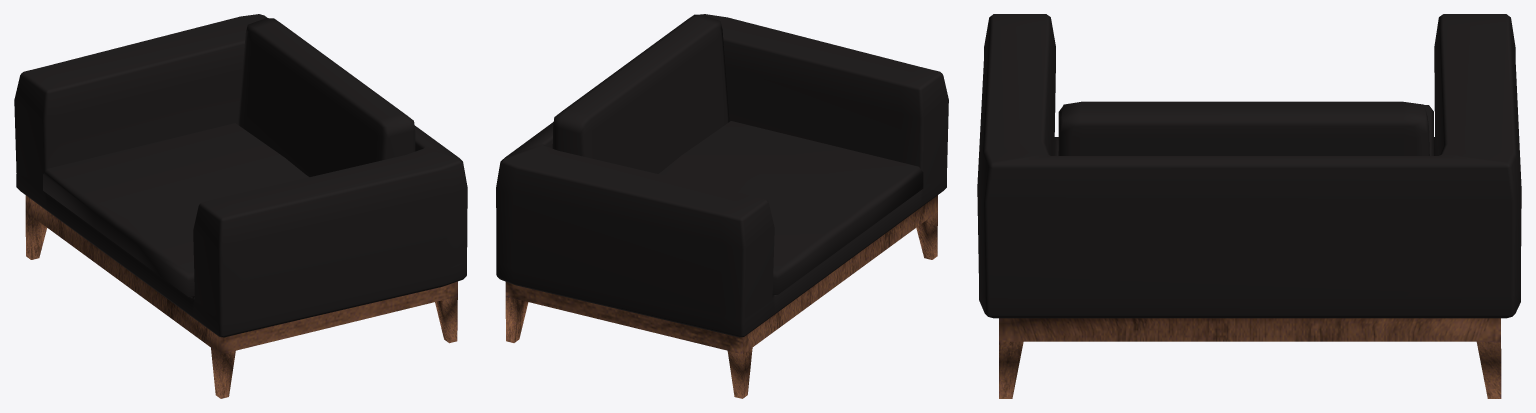
The model's file is nojatuoli.fbx.
3 renders of one model, left to right at view 1: azimuth 30°, elevation 25°; view 2: azimuth 150°, elevation 25°; view 3: azimuth 270°, elevation 25°, orthographic. The views are drawn at different scales.
Visible parts, largest first — view 1: tuoli1; view 2: tuoli1; view 3: tuoli1.
Boxes of the visible parts, x1,y1,x2,y2 form: tuoli1: (14, 14, 467, 398); tuoli1: (496, 14, 948, 398); tuoli1: (977, 14, 1521, 398).
Size of the model in its own units: 104 by 83.29 by 152.
